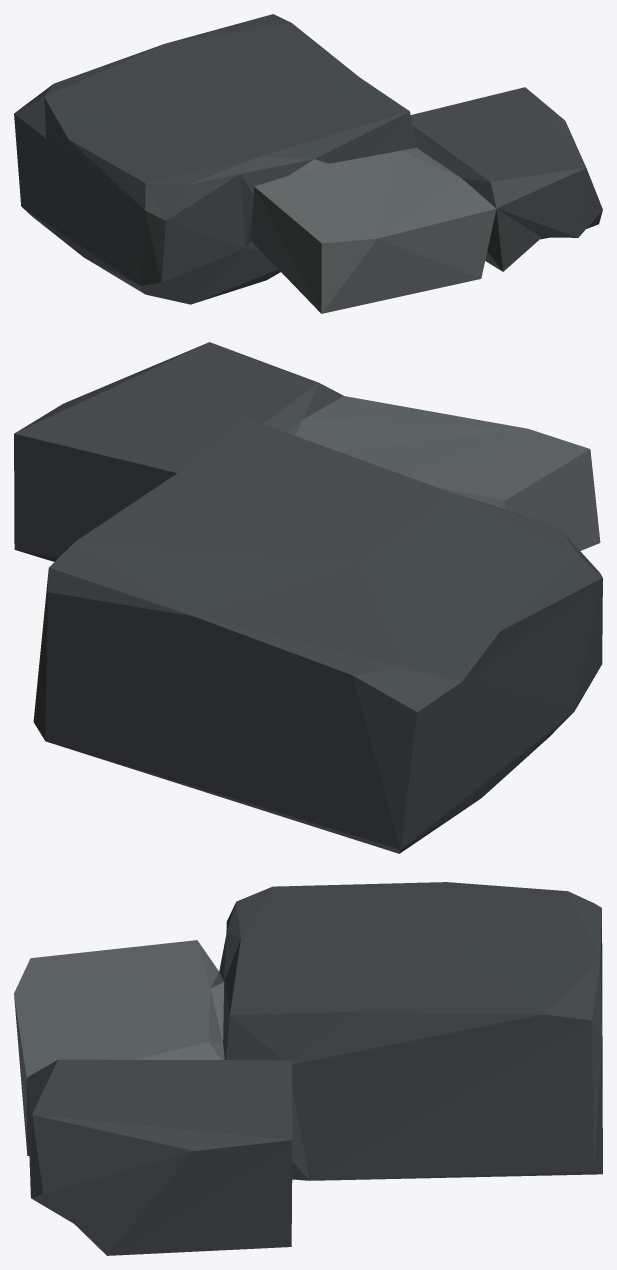
File: MDungenon_StoneFloor_Parts_02.FBX
The picture shows the model from 3 angles, top to bottom: view 1: azimuth 30°, elevation 25°; view 2: azimuth 150°, elevation 25°; view 3: azimuth 270°, elevation 25°; orthographic projection. The views are drawn at different scales.
Parts seen in each view (by area): view 1: MDungenon_StoneFloor_Parts_02_LOD0; view 2: MDungenon_StoneFloor_Parts_02_LOD0; view 3: MDungenon_StoneFloor_Parts_02_LOD0.
Boxes of the visible parts, bbox=[...] form: MDungenon_StoneFloor_Parts_02_LOD0: bbox=[14, 14, 602, 313]; MDungenon_StoneFloor_Parts_02_LOD0: bbox=[14, 342, 602, 853]; MDungenon_StoneFloor_Parts_02_LOD0: bbox=[14, 882, 602, 1255].
Size of what is drawn, in the model's own units: 3.27 by 1.14 by 3.16.
